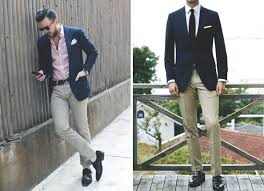F_M_suit jacket: (163, 4, 229, 92), (33, 26, 101, 103)
F_belt: (48, 76, 80, 85)
F_tie: (186, 8, 200, 44)
